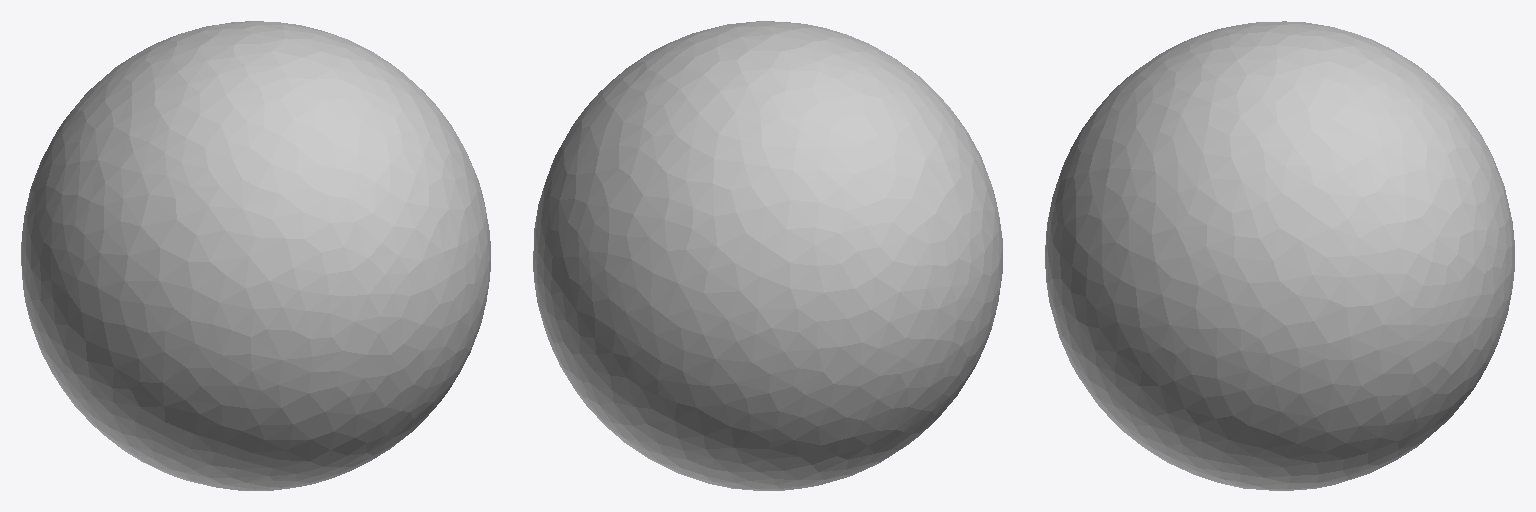
Rendered from planet_sea.obj.
The picture shows the model from 3 angles: view 1: azimuth 30°, elevation 25°; view 2: azimuth 150°, elevation 25°; view 3: azimuth 270°, elevation 25°; orthographic projection.
Bounding box in the file's own units: 66.59 × 66.57 × 66.6.